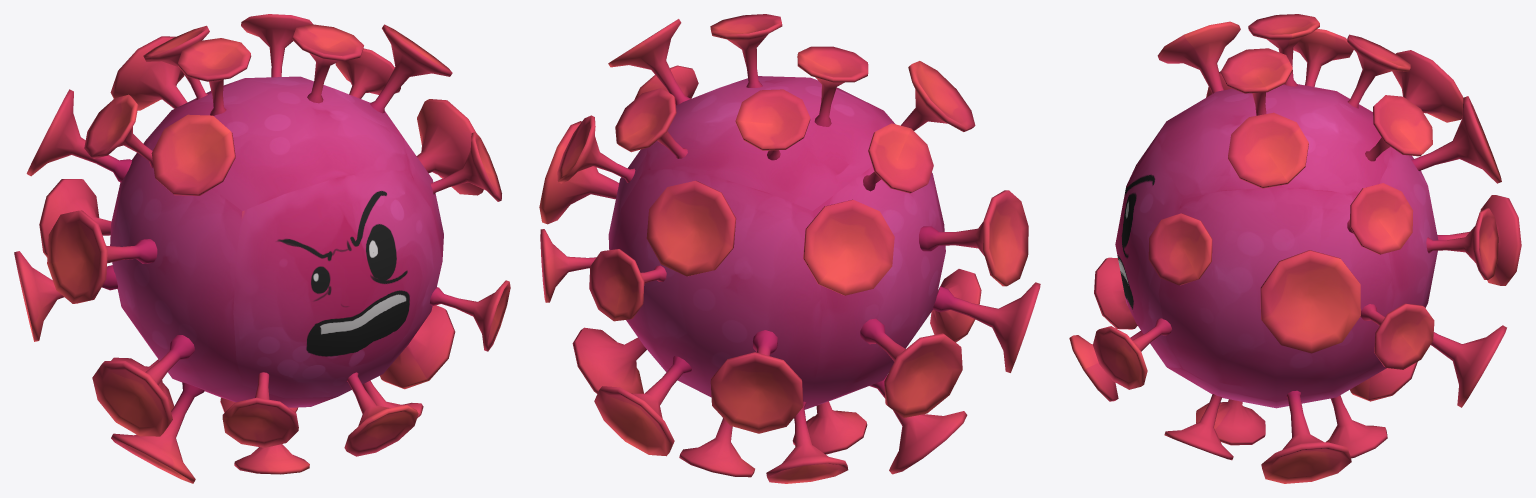
Rendered from Virus_Rose.FBX.
3 renders of one model, left to right at view 1: azimuth 30°, elevation 25°; view 2: azimuth 150°, elevation 25°; view 3: azimuth 270°, elevation 25°, orthographic. The views are drawn at different scales.
Parts seen in each view (by area): view 1: Enemy_Virus02; view 2: Enemy_Virus02; view 3: Enemy_Virus02.
Boxes of the visible parts, box(x1,y1,x2,y2) form: Enemy_Virus02: box(14, 14, 510, 483); Enemy_Virus02: box(539, 14, 1040, 483); Enemy_Virus02: box(1069, 14, 1521, 483).
Size of the model in its own units: 96.51 by 88.56 by 89.77.
